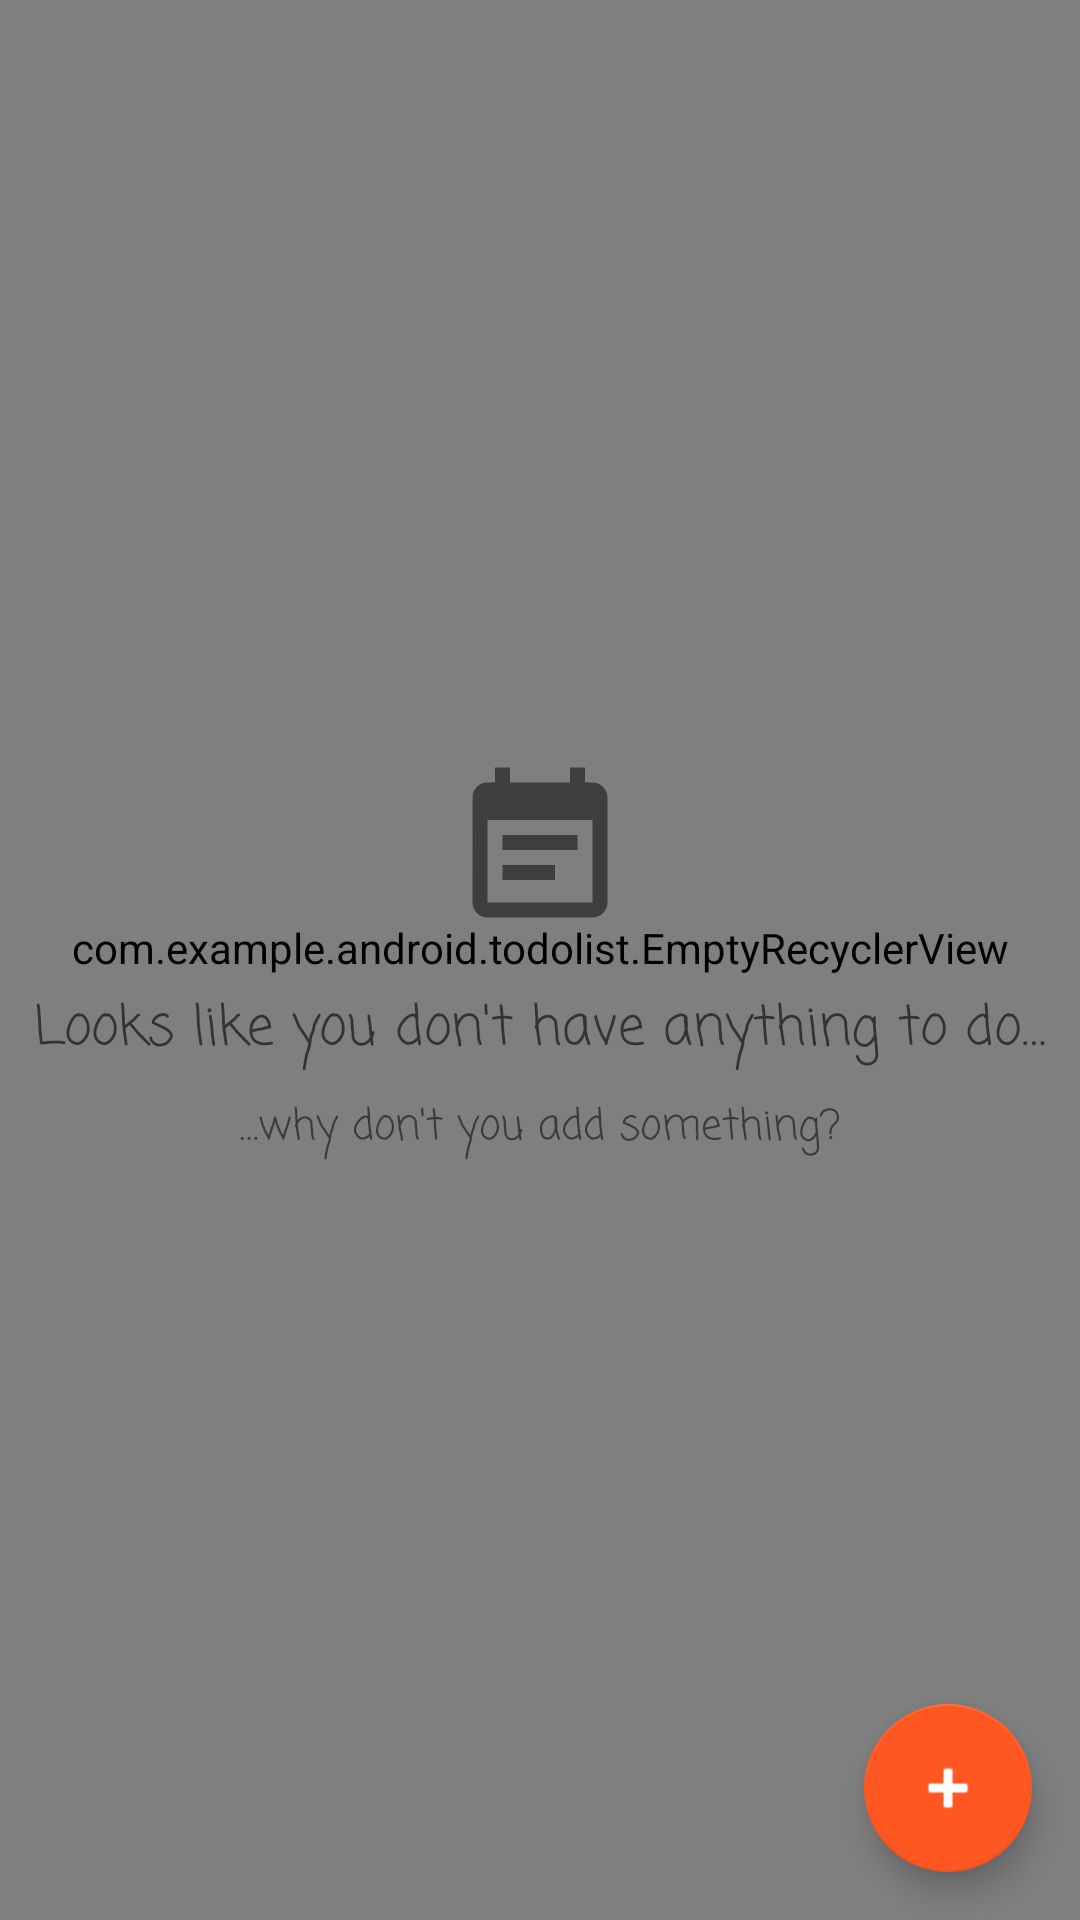

Where to tap for icons on this 1080 × 1920 app screen, as (x=x, y=y):
add: (x=948, y=1788)
notebook image: (x=529, y=852)
